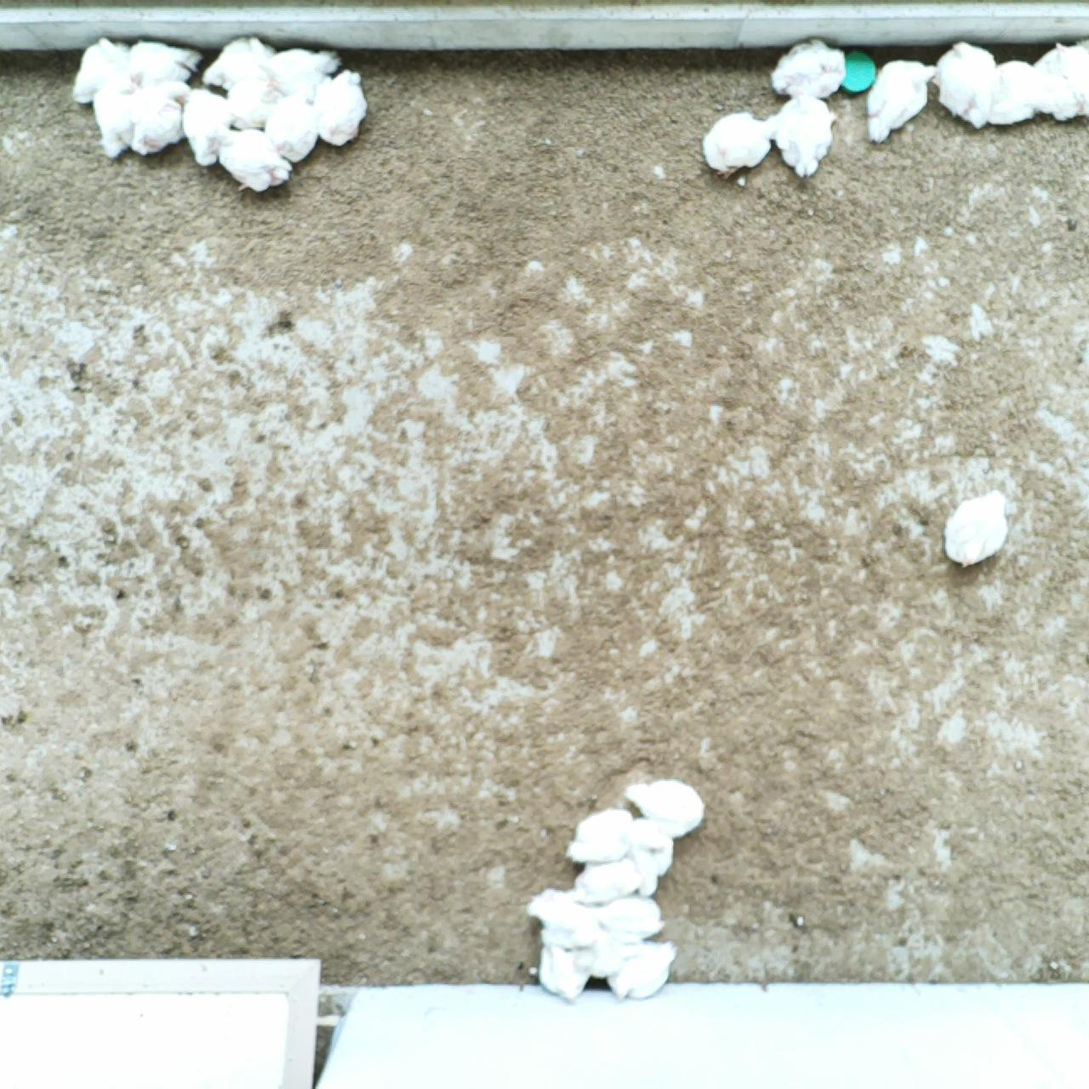chicken: (863, 54, 942, 149), (763, 93, 840, 188), (208, 120, 294, 197), (250, 36, 343, 105), (931, 39, 998, 130), (622, 774, 711, 842), (939, 487, 1011, 569), (699, 108, 775, 183), (128, 78, 197, 159), (768, 33, 848, 102), (1032, 35, 1089, 122), (523, 884, 600, 948), (311, 68, 371, 150), (91, 72, 146, 161), (564, 805, 637, 870), (607, 938, 680, 1003), (70, 33, 132, 109), (262, 88, 323, 165), (181, 84, 235, 170), (201, 33, 278, 93), (536, 925, 592, 1005), (624, 814, 677, 898), (985, 55, 1042, 129), (125, 36, 199, 92), (567, 855, 641, 909), (590, 891, 669, 941), (222, 73, 290, 131), (574, 931, 644, 979)
